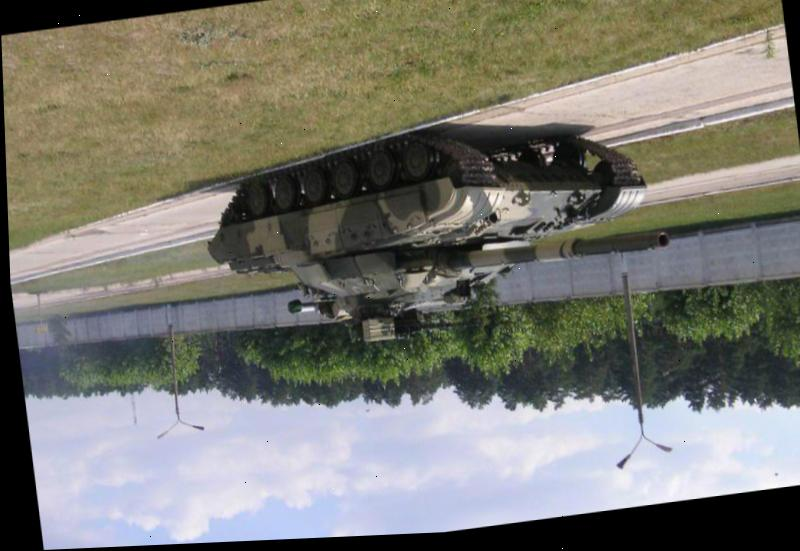tank: (195, 95, 682, 365)
